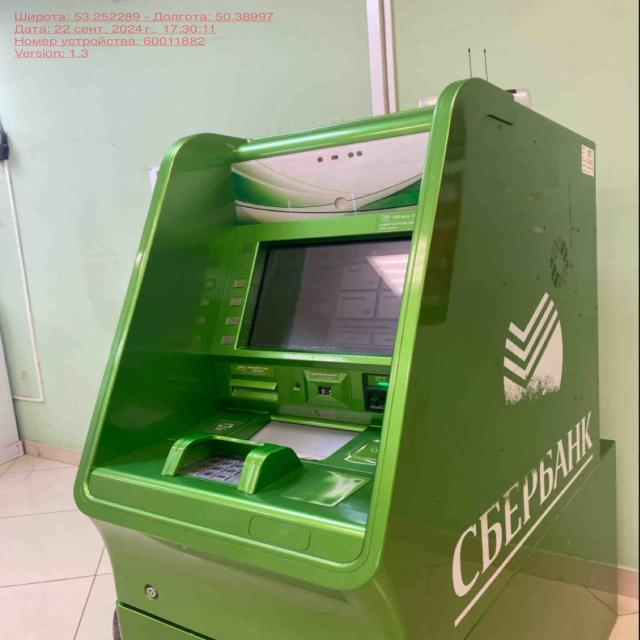bank: (72, 79, 612, 640)
